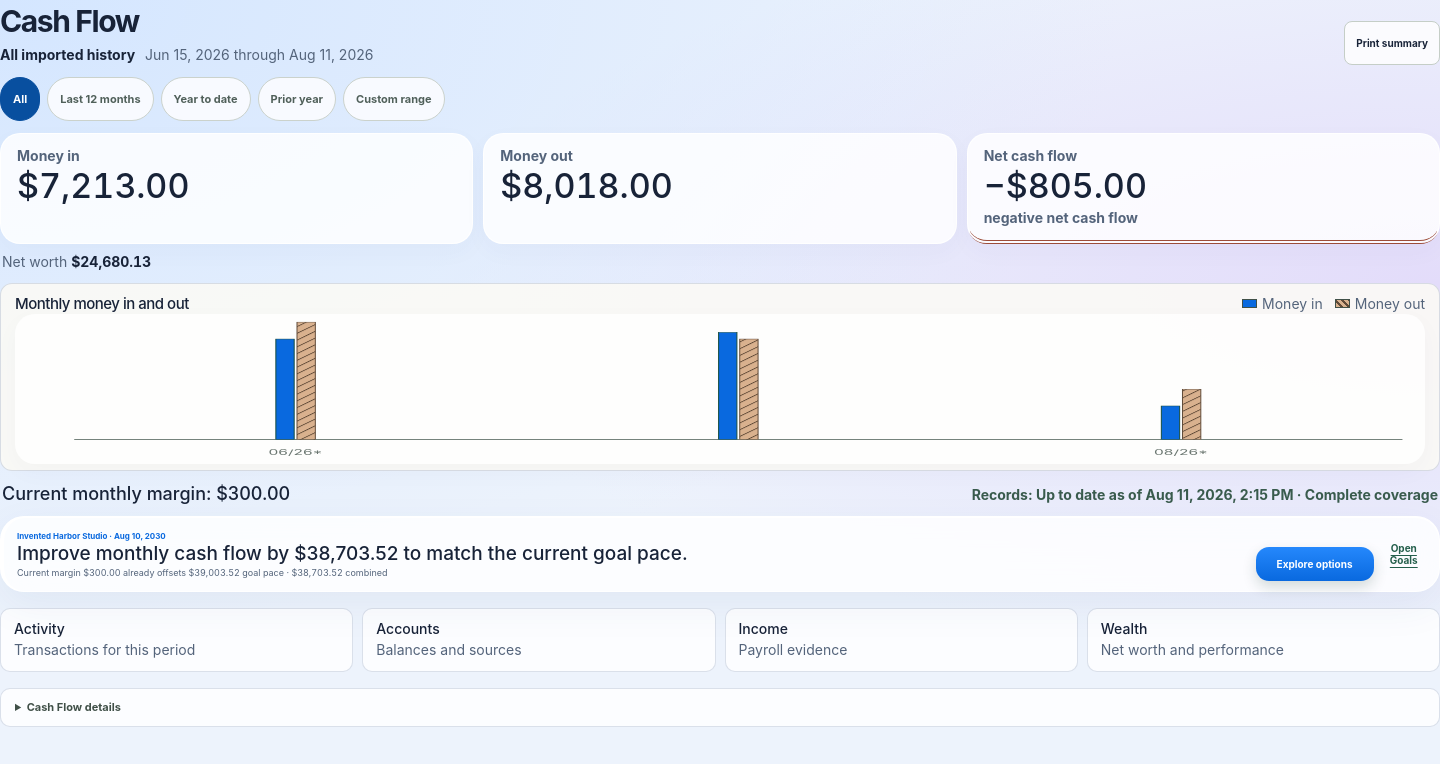
Scenario: Cash Flow default surface › blocks a reversed custom range locally
This screenshot has width=1440, height=764.
Check: the text "negative net cash flow" is shown, box left=984, top=209, right=1138, bottom=226
Click the button "Custom range" at coordinates (394, 99), box left=343, top=77, right=444, bottom=121
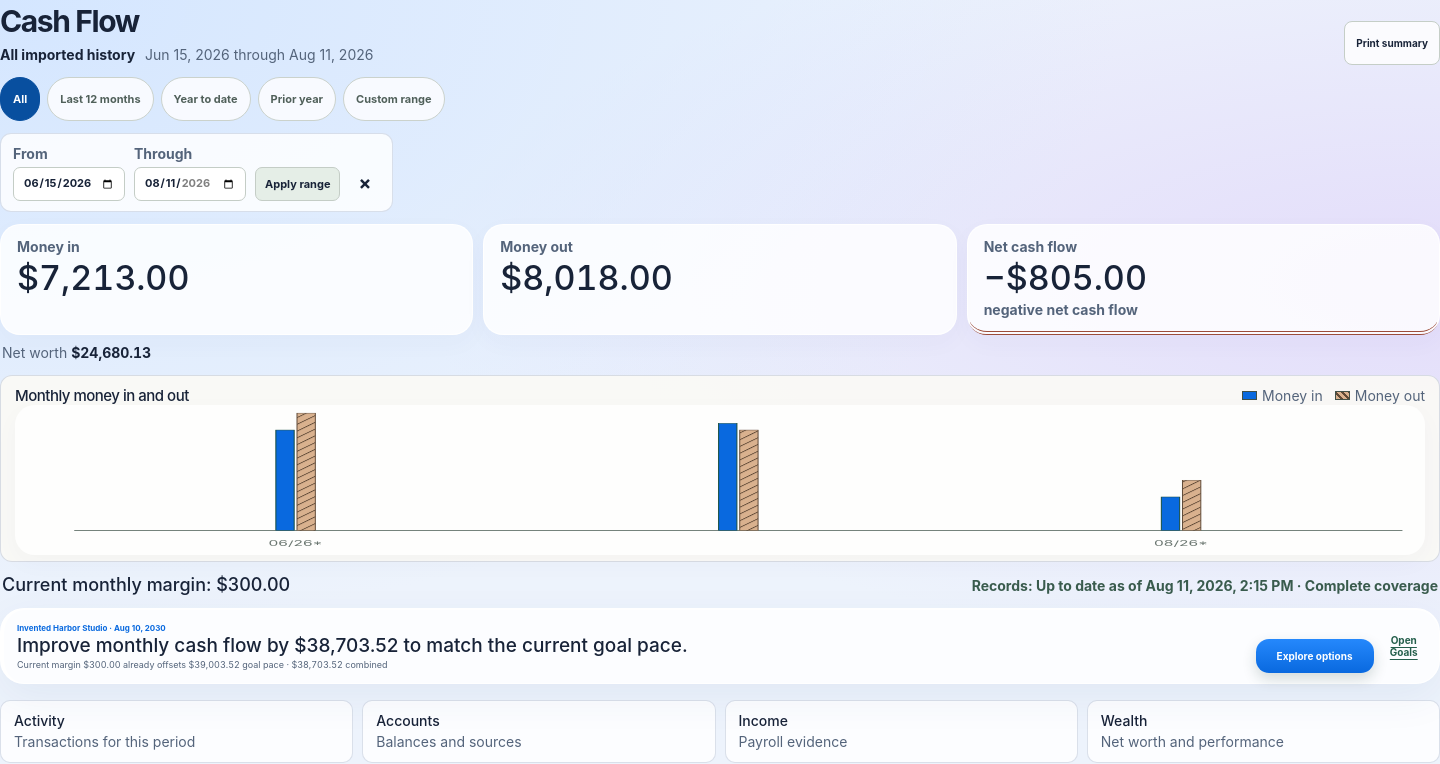
Type "2026-08-08" into the date field labelled "From" at coordinates (69, 184), box left=13, top=167, right=125, bottom=201
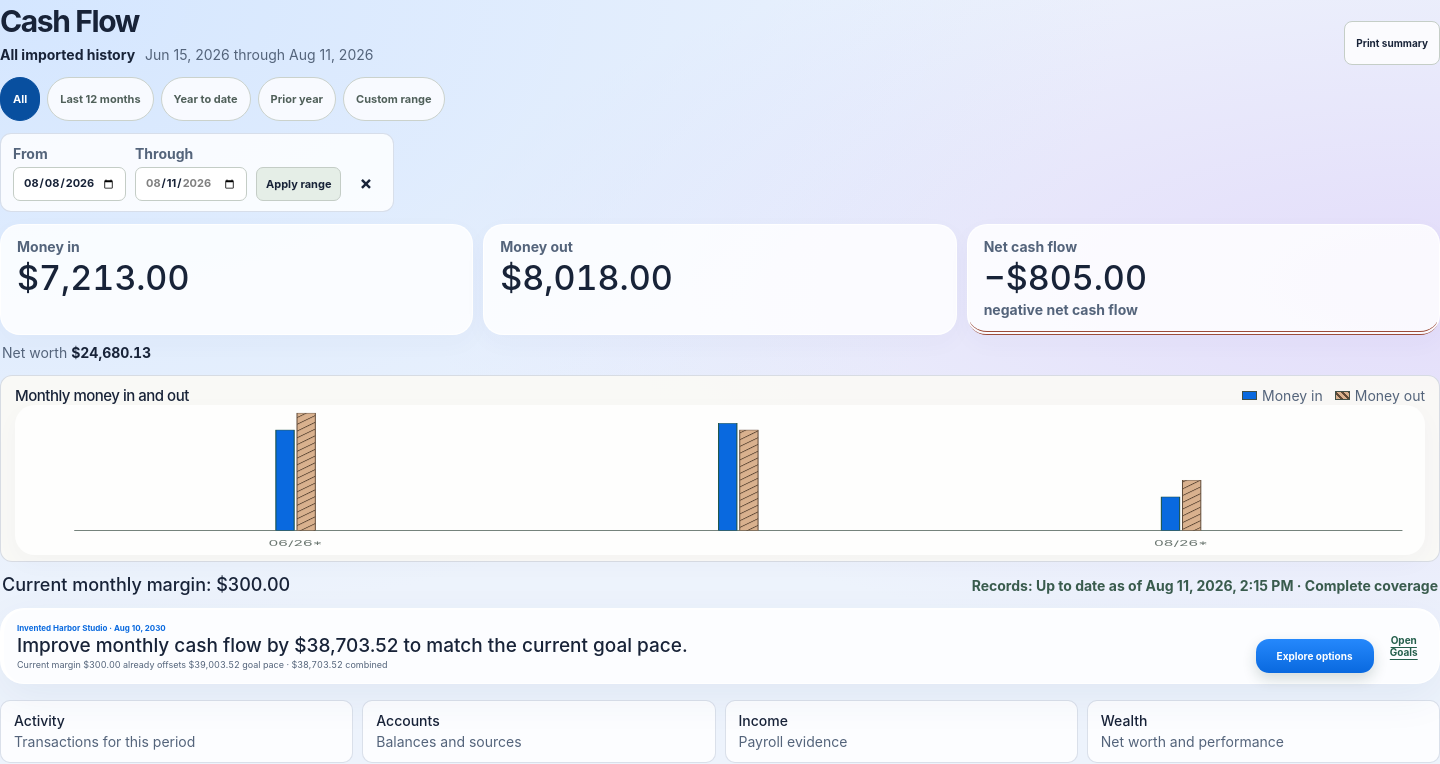
Type "2026-08-07" into the date field labelled "Through" at coordinates (191, 184), box left=135, top=167, right=247, bottom=201
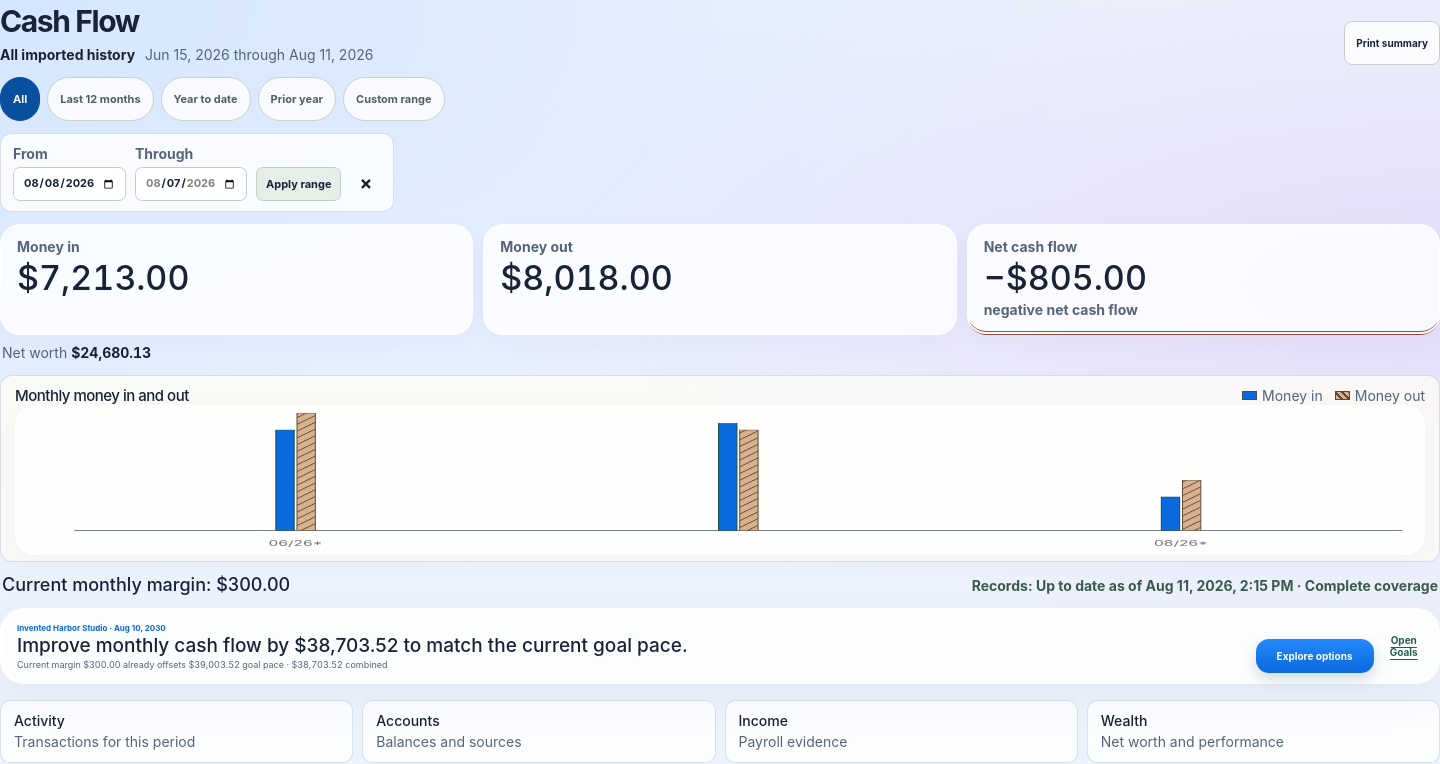
Click the button "Apply range" at coordinates (299, 184), box left=256, top=167, right=342, bottom=201
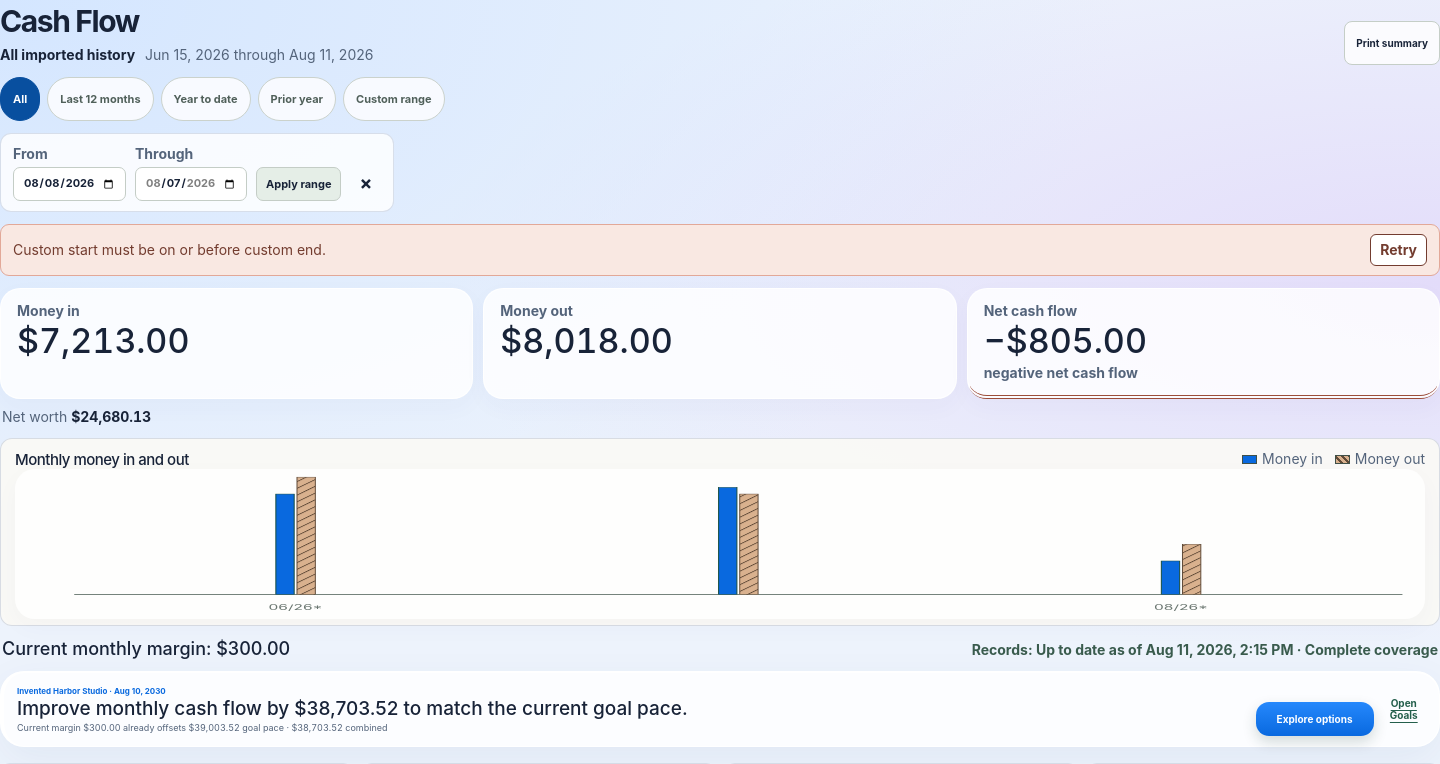
Check: the message shows "Custom start must be on or before custom end", box left=13, top=241, right=326, bottom=258
